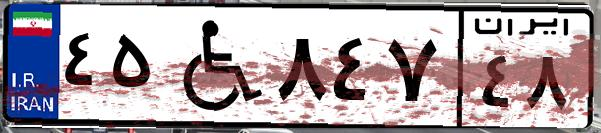4: (330, 28, 385, 110), (57, 26, 110, 100), (475, 38, 525, 113)
5: (110, 28, 158, 98)
7: (385, 28, 445, 110)
8: (270, 28, 330, 110), (525, 38, 570, 115)
ژ (معلولین و جانبازان): (158, 12, 270, 120)
